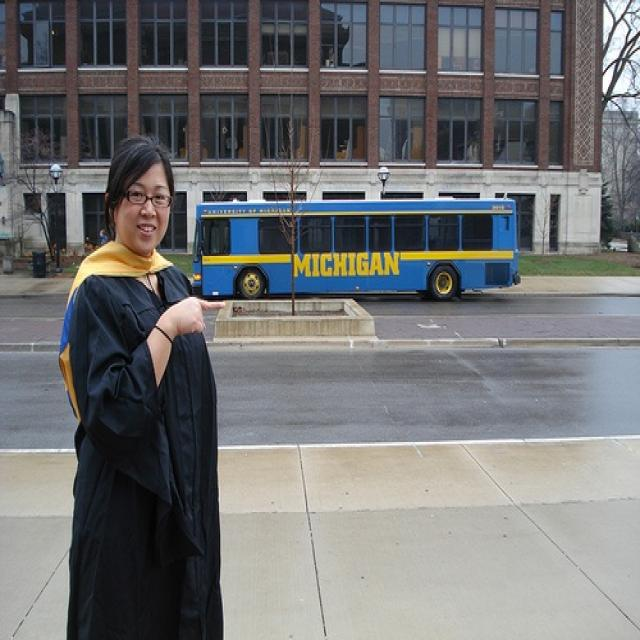bus: (195, 200, 521, 300)
